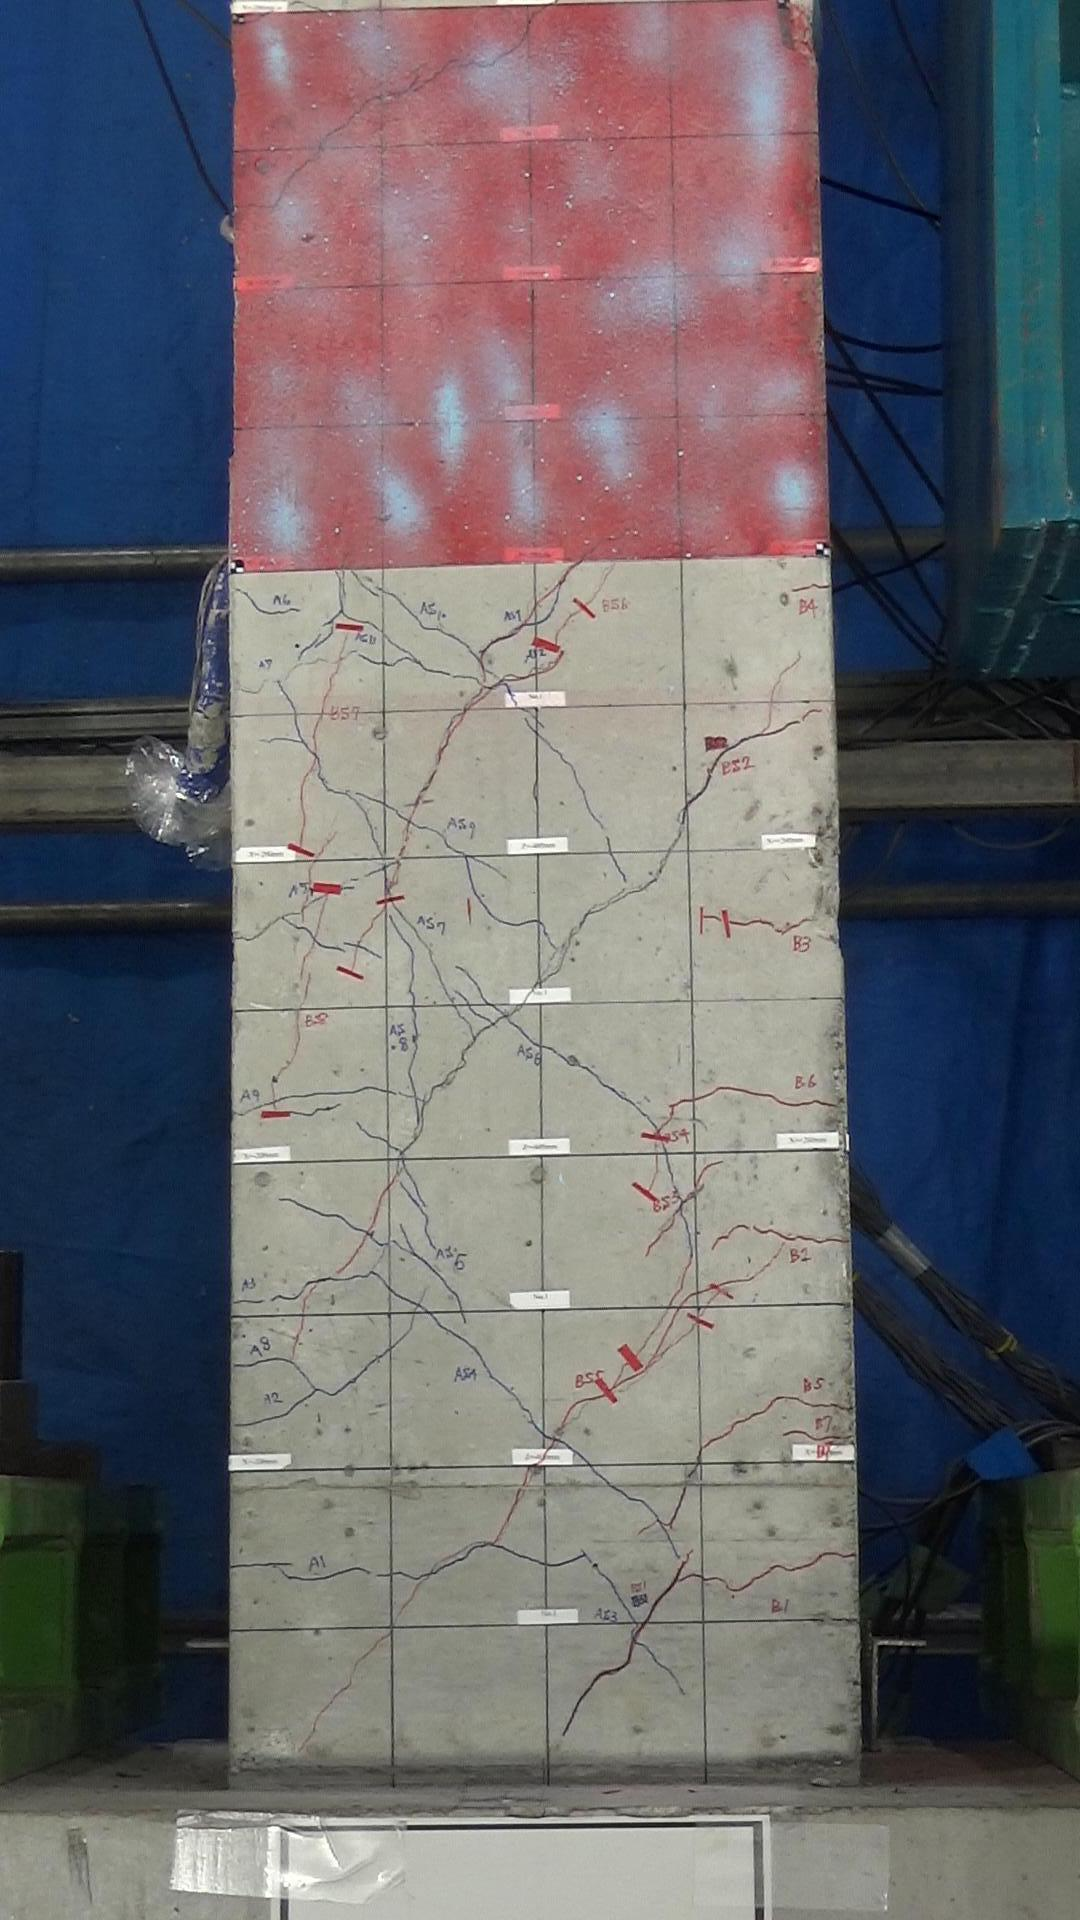Bond Crack: (439, 1284, 469, 1327), (473, 895, 510, 928), (291, 765, 316, 807), (607, 837, 626, 885), (642, 1153, 665, 1193), (458, 855, 481, 893), (293, 808, 311, 853), (282, 687, 301, 729), (287, 1013, 303, 1062), (764, 683, 782, 724), (361, 819, 382, 855), (264, 1065, 285, 1100), (295, 940, 314, 978), (394, 934, 415, 967), (402, 971, 419, 1007), (405, 1007, 422, 1043), (310, 713, 324, 754), (320, 675, 338, 709), (291, 1315, 305, 1357), (404, 1054, 417, 1095), (378, 866, 396, 895), (313, 901, 326, 938), (299, 981, 311, 1011), (303, 862, 316, 887), (413, 1101, 422, 1131)
Flexure Crack: (717, 1083, 775, 1106), (800, 1395, 853, 1420), (778, 1091, 837, 1112), (795, 1232, 847, 1254), (281, 655, 326, 680), (280, 1192, 322, 1218), (328, 1560, 368, 1582), (732, 916, 778, 935), (353, 651, 389, 673), (237, 1416, 287, 1431), (237, 680, 278, 698), (357, 789, 388, 810), (237, 1560, 294, 1571), (291, 1105, 323, 1124), (531, 1553, 559, 1575), (266, 735, 299, 752), (334, 1084, 369, 1100), (493, 1545, 525, 1563), (702, 907, 724, 931), (294, 1572, 327, 1588), (293, 1088, 327, 1102), (367, 1565, 396, 1582), (318, 1383, 342, 1400), (237, 1298, 274, 1308), (232, 1106, 266, 1117), (394, 653, 411, 670)
Shear Crack: (419, 1539, 487, 1580), (549, 738, 587, 793), (418, 742, 446, 799), (438, 1048, 475, 1089), (587, 562, 622, 603), (502, 661, 563, 683), (345, 566, 380, 603), (510, 1018, 545, 1054), (666, 807, 691, 855), (757, 1238, 789, 1275), (576, 794, 607, 831), (348, 1120, 386, 1149), (804, 1547, 856, 1568), (462, 961, 488, 1001), (438, 625, 473, 654), (311, 1689, 343, 1721), (659, 1667, 688, 1701), (666, 1093, 709, 1116), (357, 909, 386, 942), (393, 595, 419, 629), (363, 1623, 392, 1654), (481, 632, 518, 655), (517, 1414, 550, 1440), (611, 1592, 637, 1625), (647, 1218, 674, 1251), (438, 709, 464, 742), (632, 1323, 659, 1353), (696, 761, 716, 803), (589, 1062, 612, 1098), (415, 824, 448, 849), (546, 1044, 579, 1069), (559, 609, 584, 642), (392, 905, 419, 934), (521, 717, 549, 746), (673, 1259, 695, 1294), (414, 1254, 440, 1283), (585, 1555, 612, 1584), (360, 1350, 390, 1375), (342, 1656, 367, 1687), (659, 1528, 683, 1560), (618, 1088, 644, 1117), (298, 1721, 320, 1753), (287, 1394, 316, 1418), (502, 1379, 526, 1408), (289, 1364, 315, 1389), (392, 1324, 415, 1352), (491, 1515, 514, 1543), (394, 1593, 417, 1621), (338, 1250, 363, 1274), (477, 1356, 496, 1386), (640, 1639, 659, 1667), (367, 1200, 382, 1233), (375, 1270, 396, 1294), (518, 1465, 539, 1487), (378, 1174, 397, 1199), (506, 1487, 524, 1514), (448, 1331, 472, 1348), (611, 1364, 630, 1383), (392, 1236, 407, 1255), (400, 1294, 415, 1308), (647, 1116, 659, 1133)
